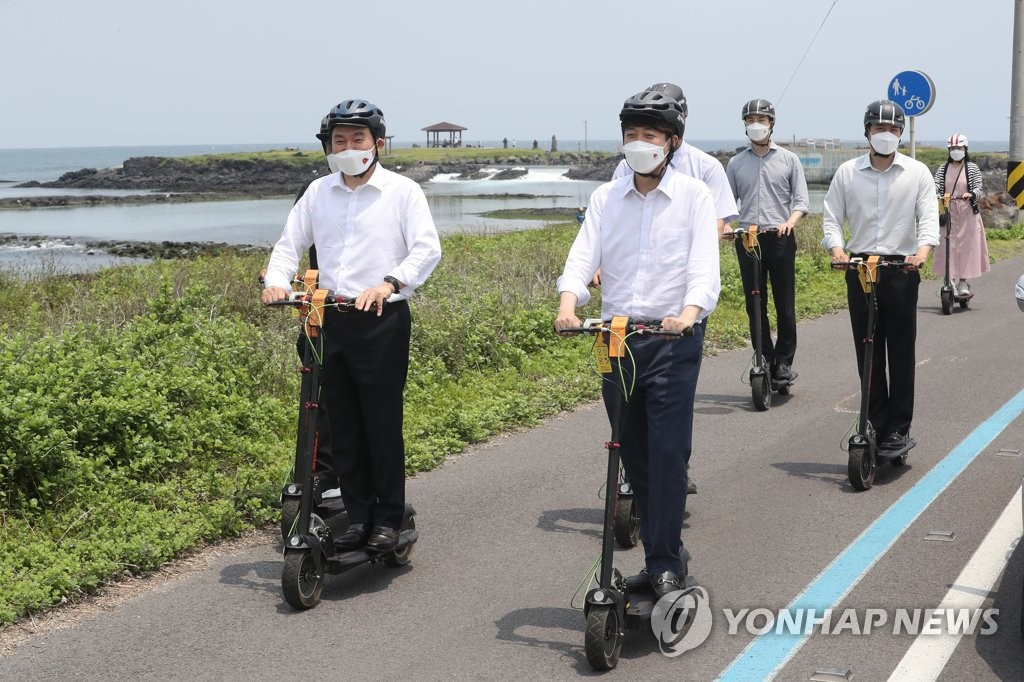scooter: (543, 311, 696, 682), (250, 287, 417, 611), (832, 246, 917, 491), (719, 215, 817, 419), (933, 183, 985, 317)
